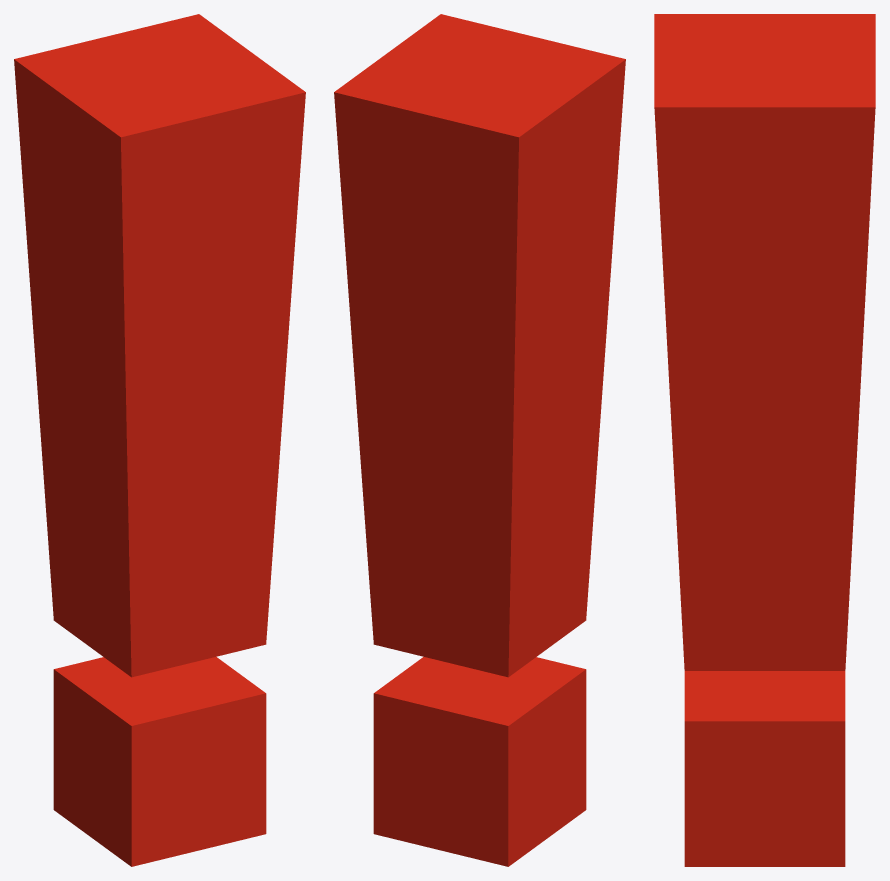
3 views of the same model, side by side, from view 1: azimuth 30°, elevation 25°; view 2: azimuth 150°, elevation 25°; view 3: azimuth 270°, elevation 25° (orthographic). The views are drawn at different scales.
Parts seen in each view (by area): view 1: Cube; view 2: Cube; view 3: Cube.
Part boxes in pixels (<box>): Cube: <box>14,14,305,866</box>; Cube: <box>334,14,625,866</box>; Cube: <box>654,14,875,866</box>.
Bounding box in the file's own units: 68.75 × 265 × 68.75.
